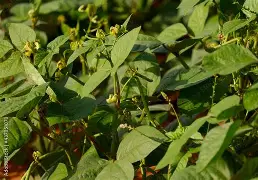crops: (0, 0, 255, 179)
